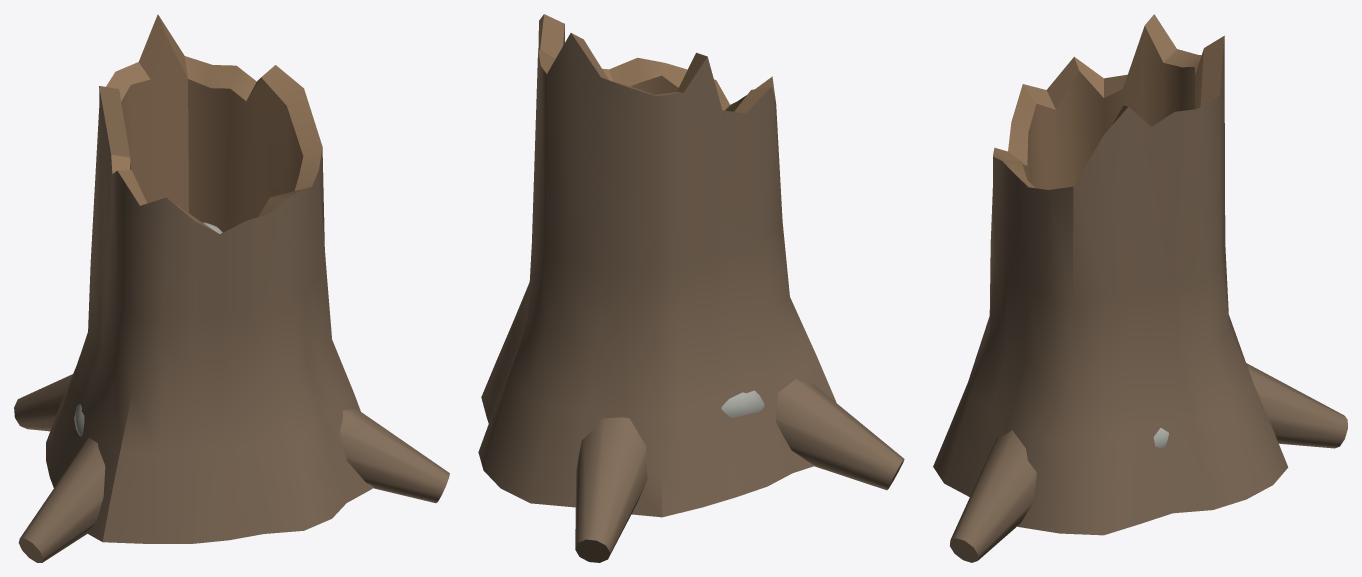
The model's file is rh_key.glb.
3 renders of one model, left to right at view 1: azimuth 30°, elevation 25°; view 2: azimuth 150°, elevation 25°; view 3: azimuth 270°, elevation 25°, orthographic. The views are drawn at different scales.
Visible parts, largest first — view 1: HollowStump; view 2: HollowStump, Cairn; view 3: HollowStump.
Part boxes in pixels (x1=…): HollowStump: x1=14, y1=14, x2=449, y2=562; HollowStump: x1=478, y1=14, x2=904, y2=562; Cairn: x1=721, y1=390, x2=764, y2=417; HollowStump: x1=933, y1=14, x2=1347, y2=562.
Size of the model in its own units: 1.35 by 1.44 by 1.21.
